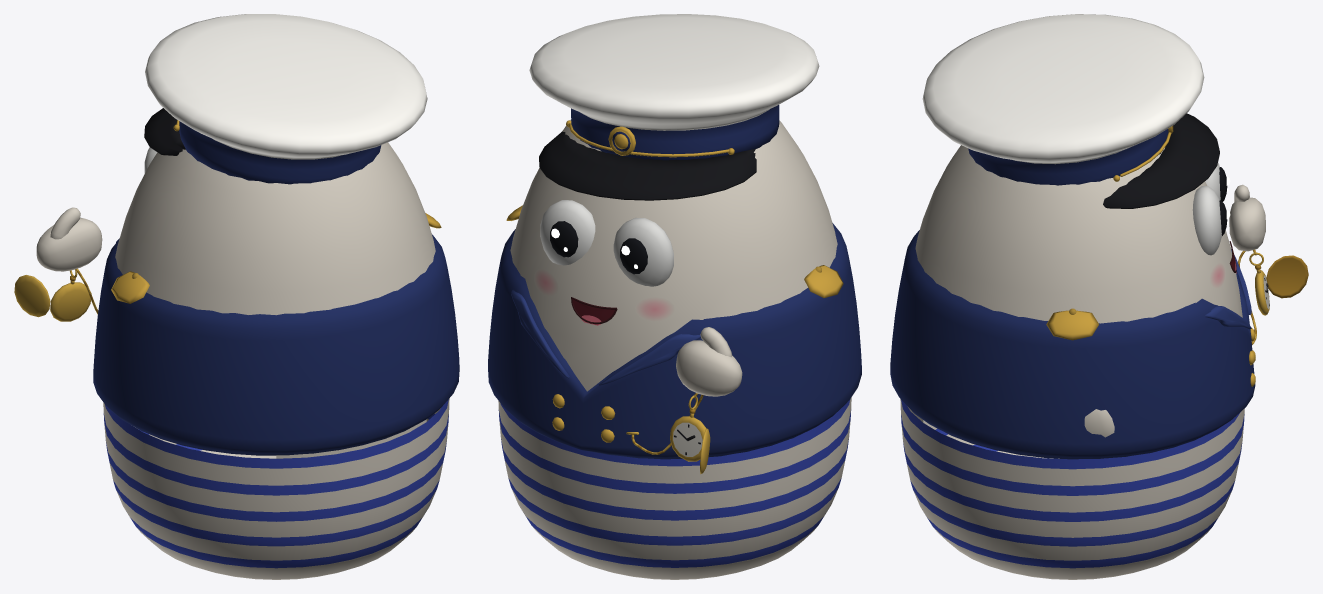
Rendered from seva.glb.
3 renders of one model, left to right at view 1: azimuth 30°, elevation 25°; view 2: azimuth 150°, elevation 25°; view 3: azimuth 270°, elevation 25°, orthographic. The views are drawn at different scales.
Parts seen in each view (by area): view 1: body, hand.L, prop; view 2: body, eyes, hand.L, prop; view 3: body, eyes, prop, hand.L, hand.R.
Part boxes in pixels (x1,y1,x2,y2): body: [93, 14, 459, 579]; hand.L: [36, 207, 102, 271]; prop: [14, 268, 98, 321]; body: [488, 14, 861, 579]; eyes: [540, 200, 673, 286]; hand.L: [676, 327, 742, 396]; prop: [626, 393, 710, 474]; body: [890, 14, 1255, 579]; eyes: [1192, 162, 1230, 255]; prop: [1238, 249, 1308, 344]; hand.L: [1229, 184, 1265, 251]; hand.R: [1084, 409, 1114, 437].
Bounding box in the file's own units: 1.16 × 1.65 × 1.32.
